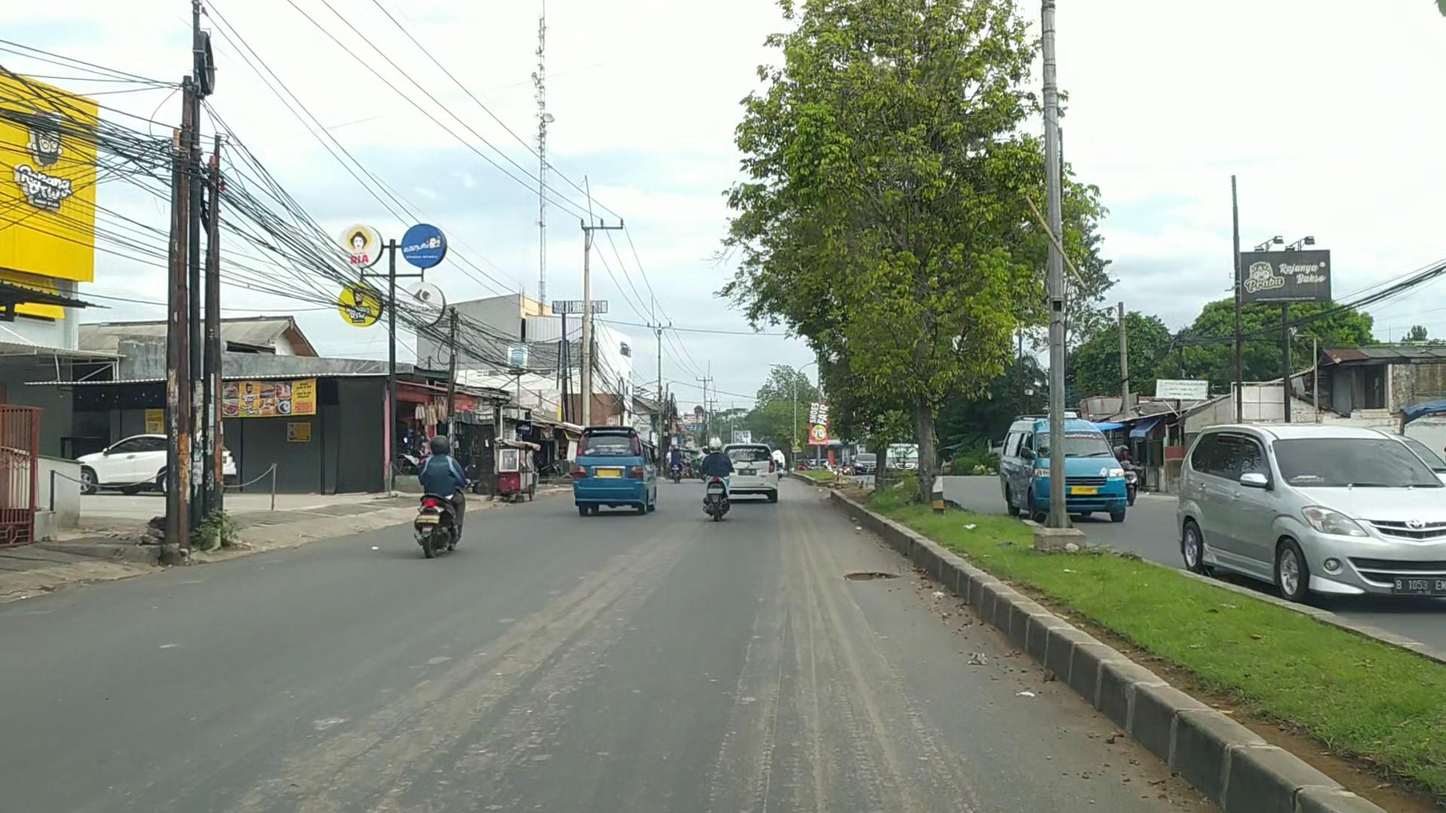pothole: (843, 571, 902, 582)
